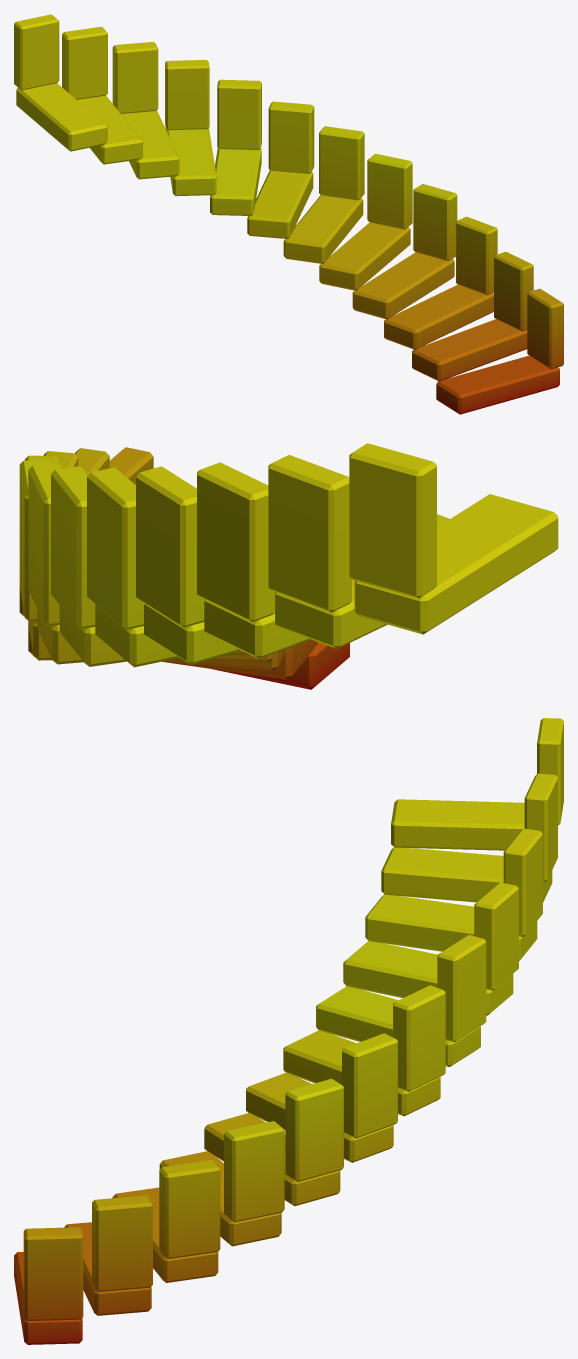
File: tower_stair.glb
3 views of the same model, one above another, from view 1: azimuth 30°, elevation 25°; view 2: azimuth 150°, elevation 25°; view 3: azimuth 270°, elevation 25° (orthographic). The views are drawn at different scales.
Parts seen in each view (by area): view 1: tower_stair; view 2: tower_stair; view 3: tower_stair.
Boxes of the visible parts, bbox=[...] form: tower_stair: bbox=[14, 14, 563, 414]; tower_stair: bbox=[19, 443, 558, 689]; tower_stair: bbox=[14, 718, 563, 1344].
Size of what is drawn, in the model's own units: 4.69 by 3.8 by 4.69.
